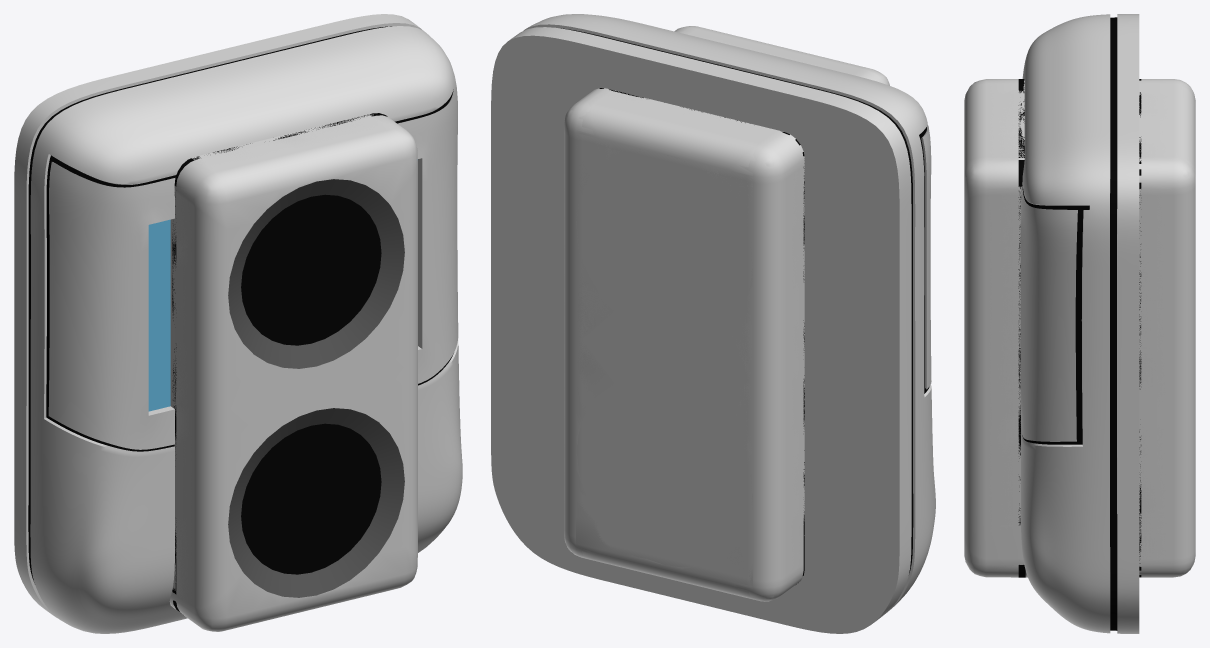
Rendered from Jukebox.fbx.
3 renders of one model, left to right at view 1: azimuth 30°, elevation 25°; view 2: azimuth 150°, elevation 25°; view 3: azimuth 270°, elevation 25°, orthographic. The views are drawn at different scales.
Parts seen in each view (by area): view 1: Jukebox, IndoorSpeaker, OutdoorSpeaker; view 2: Jukebox, IndoorSpeaker, OutdoorSpeaker; view 3: Jukebox, IndoorSpeaker, OutdoorSpeaker.
Part boxes in pixels (bbox=[...]): Jukebox: bbox=[14, 14, 462, 633]; IndoorSpeaker: bbox=[170, 114, 417, 631]; OutdoorSpeaker: bbox=[169, 113, 405, 627]; Jukebox: bbox=[491, 14, 935, 633]; IndoorSpeaker: bbox=[564, 26, 889, 601]; OutdoorSpeaker: bbox=[566, 27, 883, 600]; Jukebox: bbox=[1020, 14, 1139, 633]; IndoorSpeaker: bbox=[964, 79, 1195, 577]; OutdoorSpeaker: bbox=[986, 79, 1195, 577].
Size of the model in its own units: 187 by 232 by 100.
